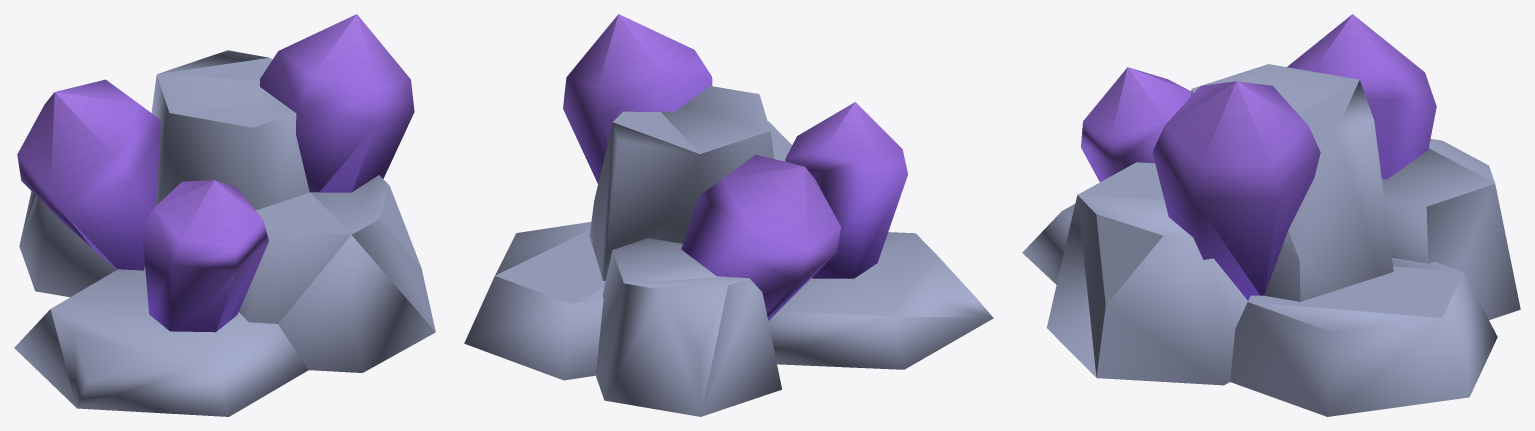
File: hill_crystal.fbx
3 views of the same model, side by side, from view 1: azimuth 30°, elevation 25°; view 2: azimuth 150°, elevation 25°; view 3: azimuth 270°, elevation 25° (orthographic). The views are drawn at different scales.
Visible parts, largest first — view 1: detail-crystal-large; view 2: detail-crystal-large; view 3: detail-crystal-large.
Part boxes in pixels (left/top/right/bottom): detail-crystal-large: left=14, top=14, right=435, bottom=416; detail-crystal-large: left=464, top=14, right=993, bottom=416; detail-crystal-large: left=1022, top=14, right=1520, bottom=416.
Bounding box in the file's own units: 89.22 × 55.18 × 85.93.
Materials: 1 (1 with a texture image).
